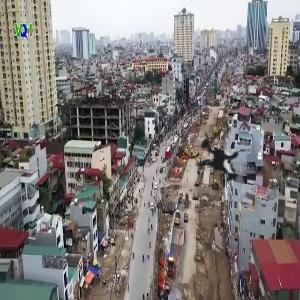drone: (161, 107, 273, 219)
